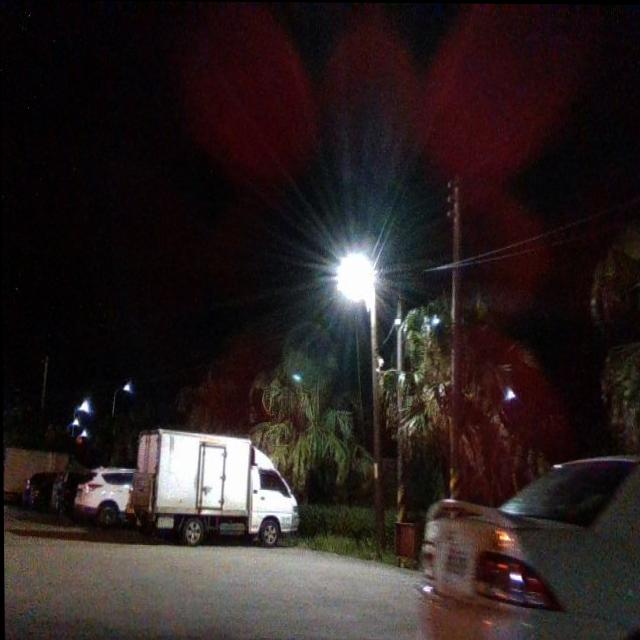pollute: (393, 521, 420, 570)
